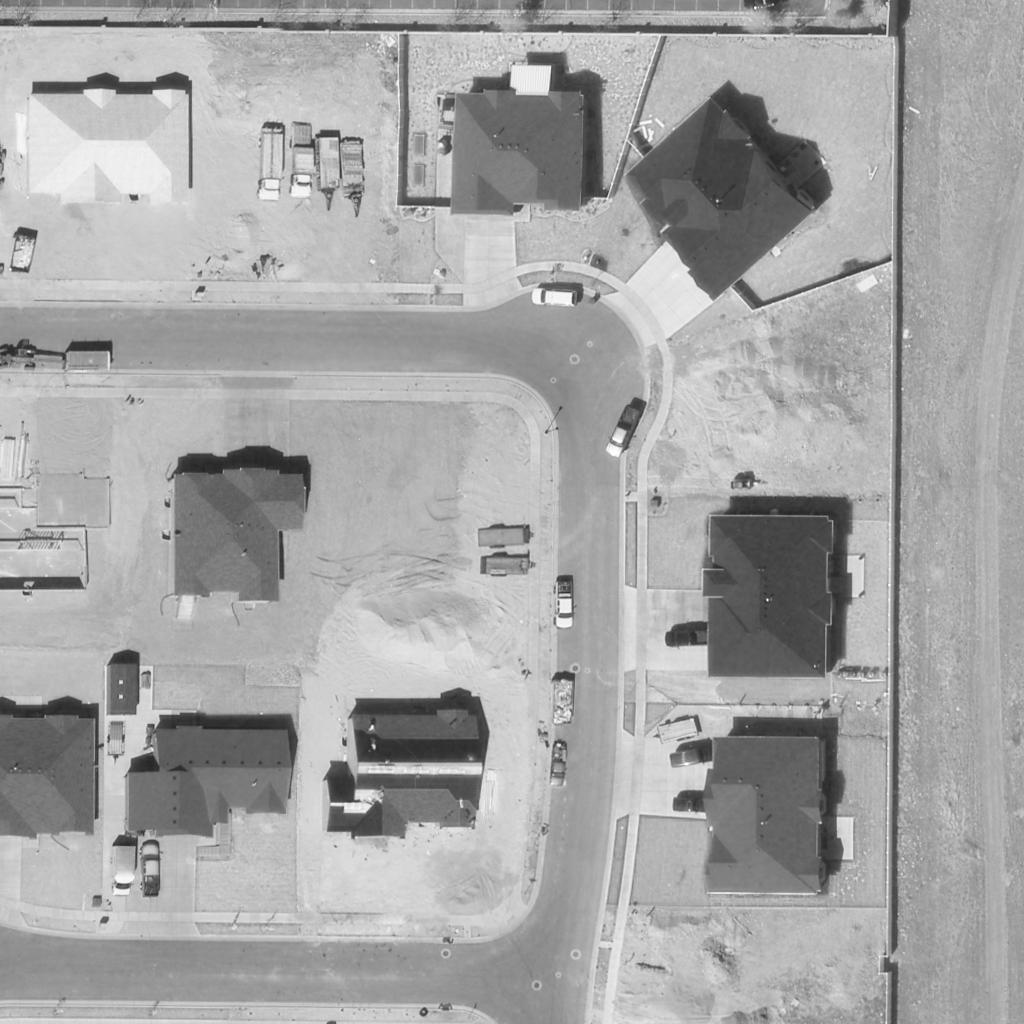vehicle: (286, 121, 314, 201), (604, 405, 642, 461), (258, 127, 284, 203), (3, 346, 67, 374), (669, 744, 721, 768), (111, 848, 135, 896), (553, 581, 575, 629), (547, 742, 569, 788), (141, 847, 161, 897), (531, 288, 577, 308), (663, 631, 711, 647), (673, 799, 711, 811)
